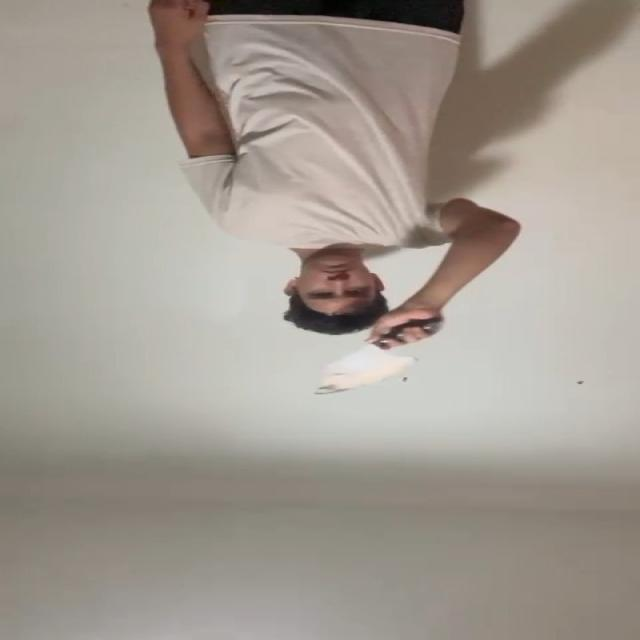knife: (313, 353, 415, 398)
